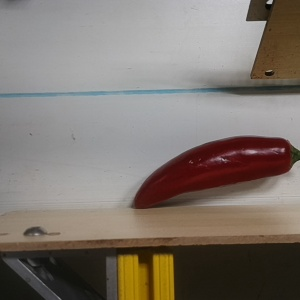Cut Point: (277, 136, 300, 174)
